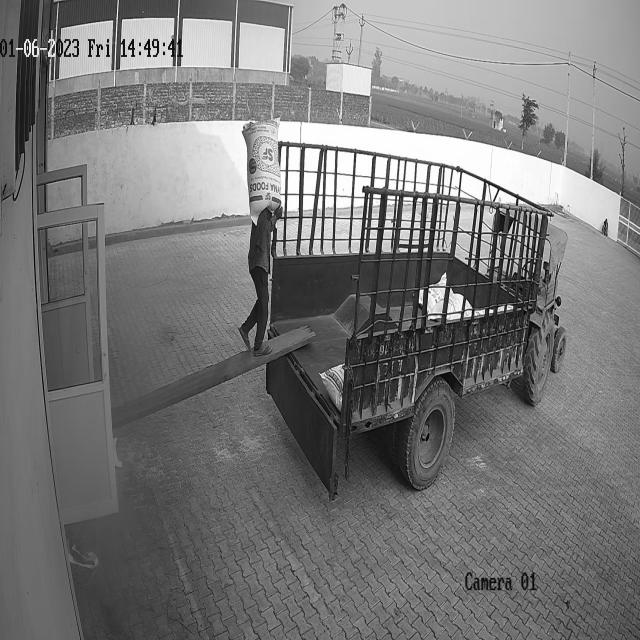sack: (242, 116, 282, 225)
